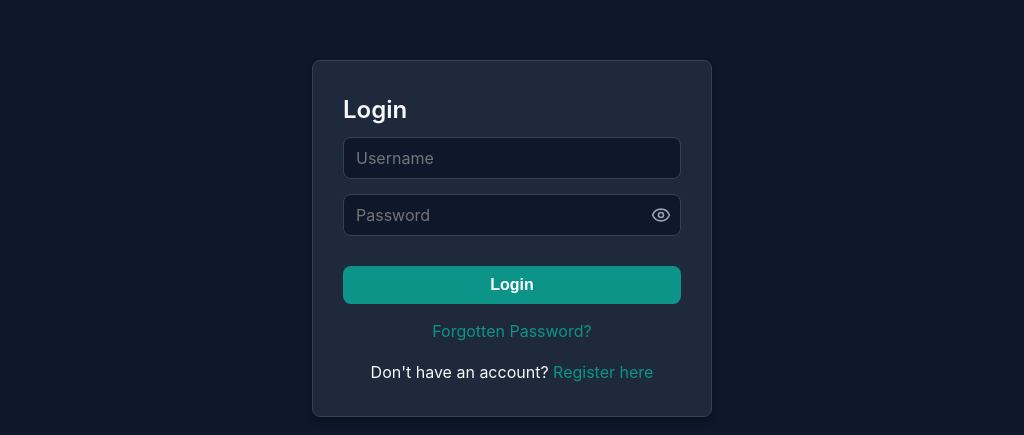
it: Frontend Isolated Login & Data Load › logs in successfully and loads the dashboard without a backend
Type "fitness_guru" into the field with placeholder "Username" at [512, 158], box left=343, top=137, right=681, bottom=179
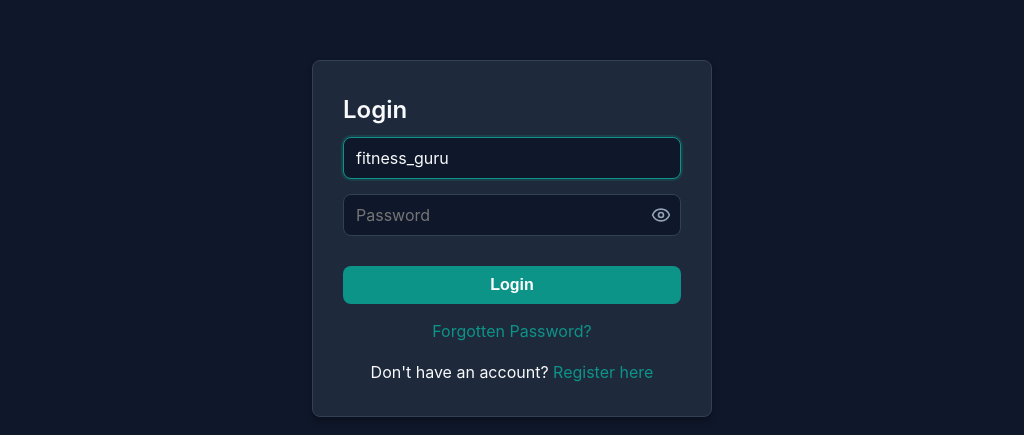
Type "password123" into the password field with placeholder "Password" at [512, 215], box left=343, top=194, right=681, bottom=236
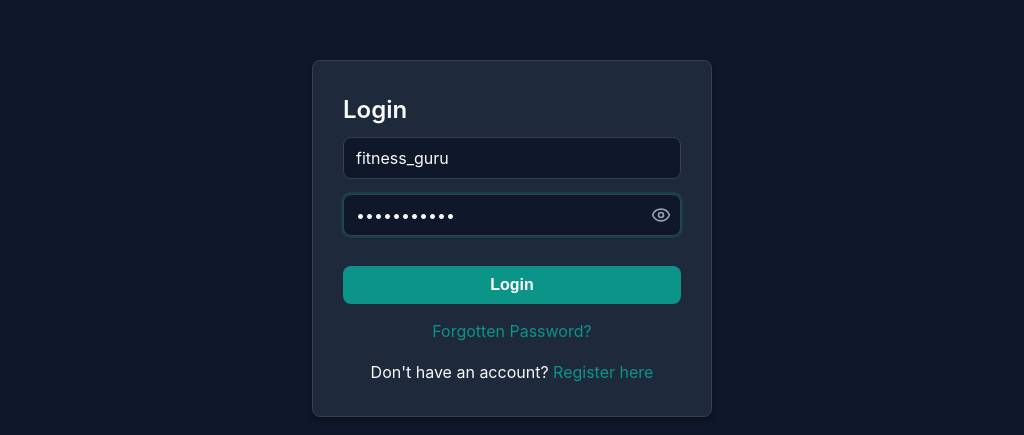
Click the submit button at [512, 285], box left=343, top=266, right=681, bottom=304
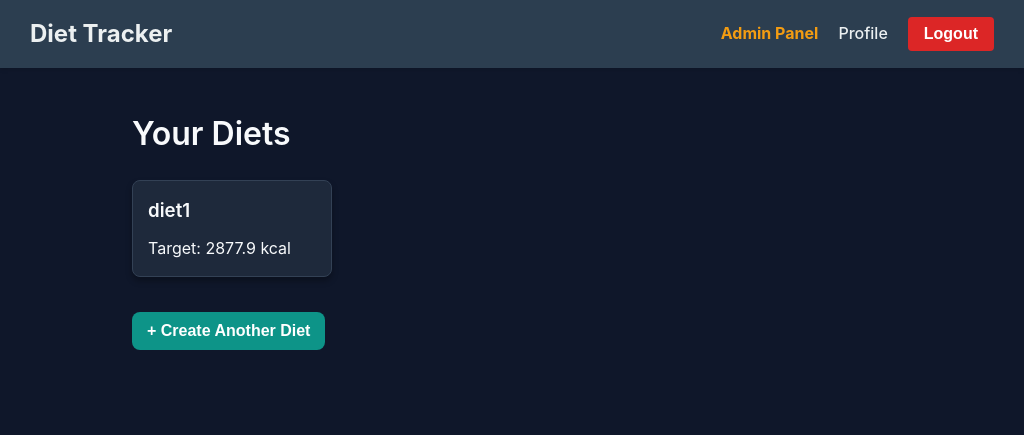
Expected: the heading "diet1" is shown, left=148, top=199, right=190, bottom=222
